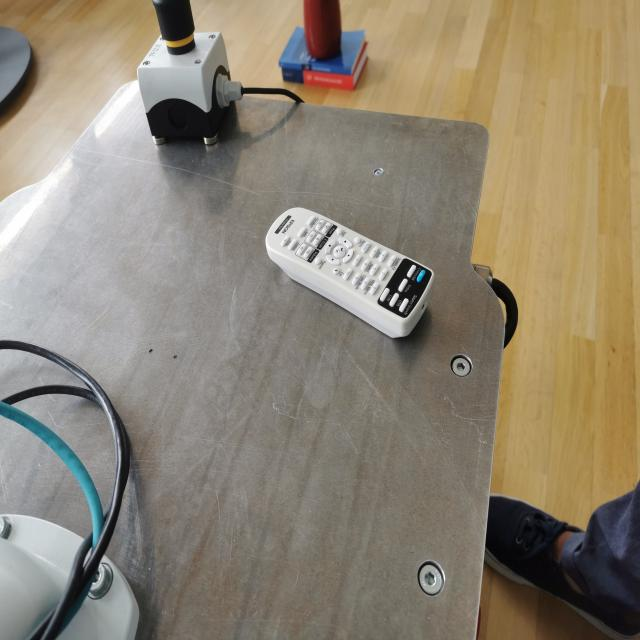remote: (266, 203, 433, 337)
